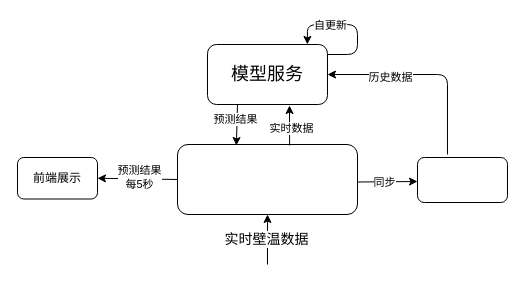
Image size: 525x290. Some labels were removed from this diagram. The centre of each missing label's shape, as x and y in pixels:
后端逻辑模块: point (267, 179)
数据库: point (462, 179)
